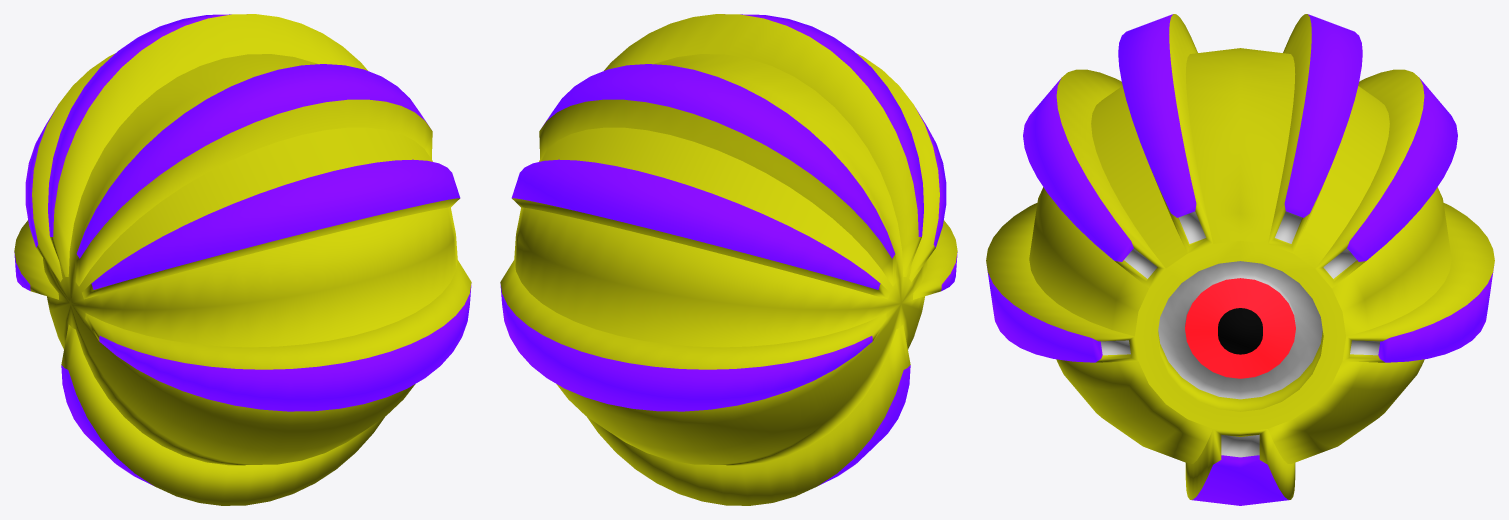
File: companion.fbx
3 views of the same model, side by side, from view 1: azimuth 30°, elevation 25°; view 2: azimuth 150°, elevation 25°; view 3: azimuth 270°, elevation 25° (orthographic).
Visible parts, largest first — view 1: Sphere; view 2: Sphere; view 3: Sphere.
Part boxes in pixels (<box>): Sphere: <box>14,14,471,505</box>; Sphere: <box>500,14,957,505</box>; Sphere: <box>986,14,1494,505</box>.
Size of the model in its own units: 190 by 236 by 241.
